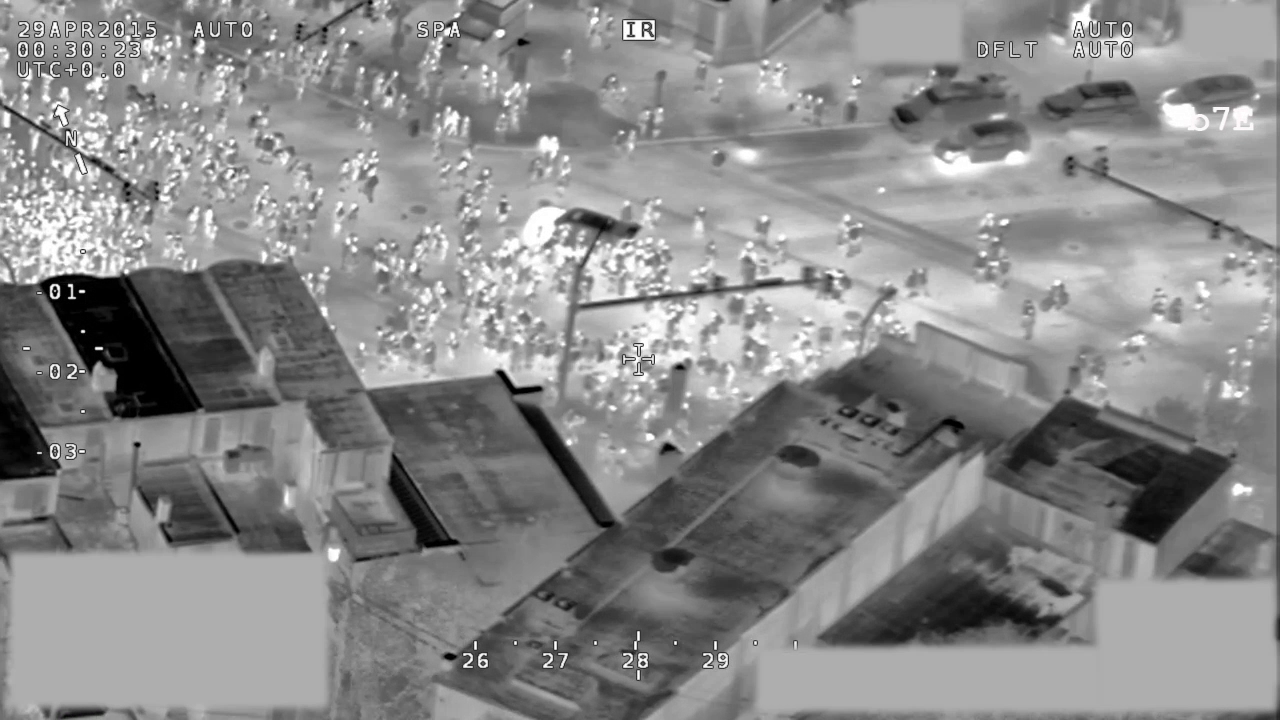vehicle: (884, 66, 1025, 145), (519, 198, 649, 263), (1155, 71, 1267, 130), (930, 117, 1033, 174), (1035, 75, 1140, 128)
